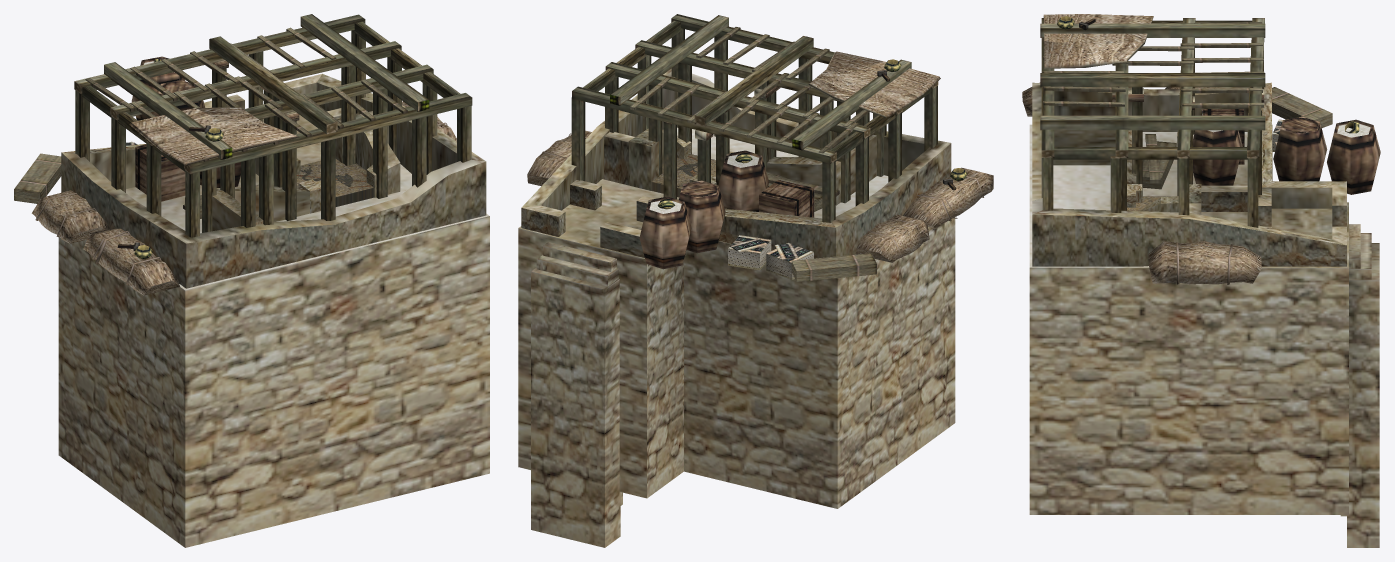
Rendered from scaffold_up_cart_house.glb.
The picture shows the model from 3 angles, left to right: view 1: azimuth 30°, elevation 25°; view 2: azimuth 150°, elevation 25°; view 3: azimuth 270°, elevation 25°; orthographic projection. The views are drawn at different scales.
Parts seen in each view (by area): view 1: scaffold_up_cart_house_part0; view 2: scaffold_up_cart_house_part0; view 3: scaffold_up_cart_house_part0.
Boxes of the visible parts, box(x1,y1,x2,y2) form: scaffold_up_cart_house_part0: box(14, 14, 489, 547); scaffold_up_cart_house_part0: box(518, 14, 993, 547); scaffold_up_cart_house_part0: box(1022, 14, 1380, 547).
Size of the model in its own units: 3.46 by 3.67 by 2.81.
Materials: 1 (1 with a texture image).
